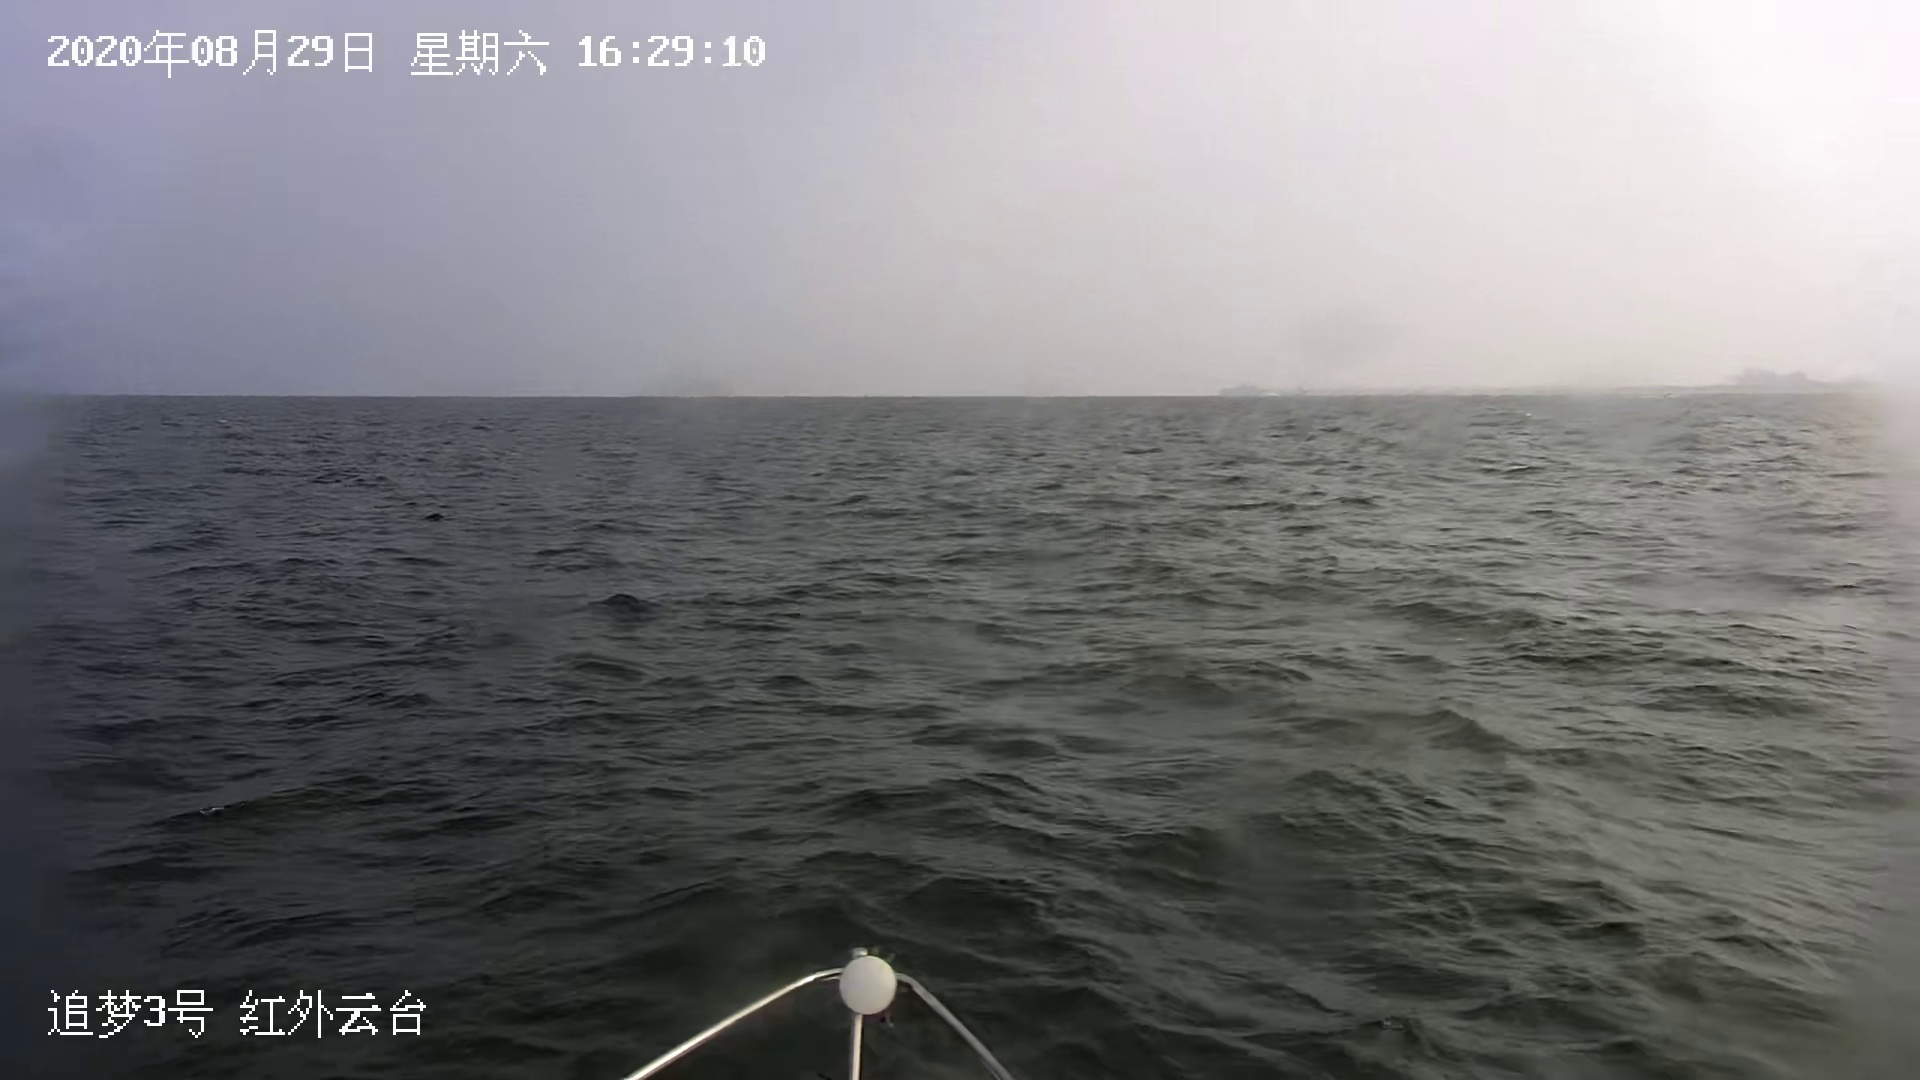coast: (1208, 365, 1920, 400)
